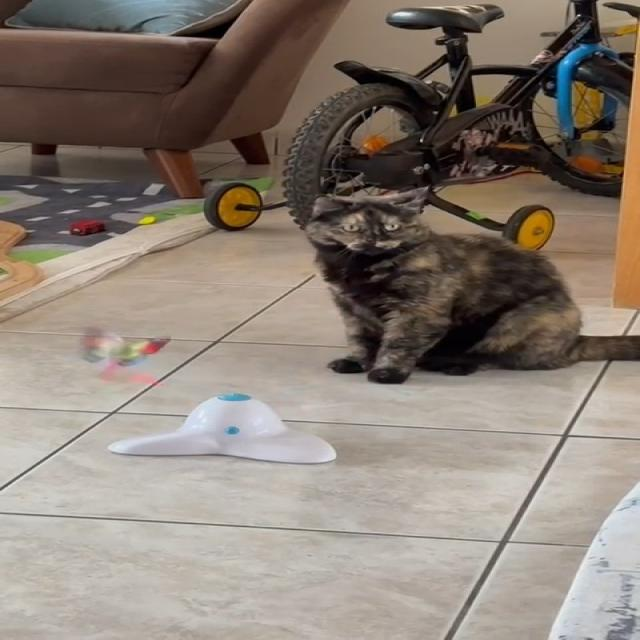authorized: (302, 186, 638, 384)
